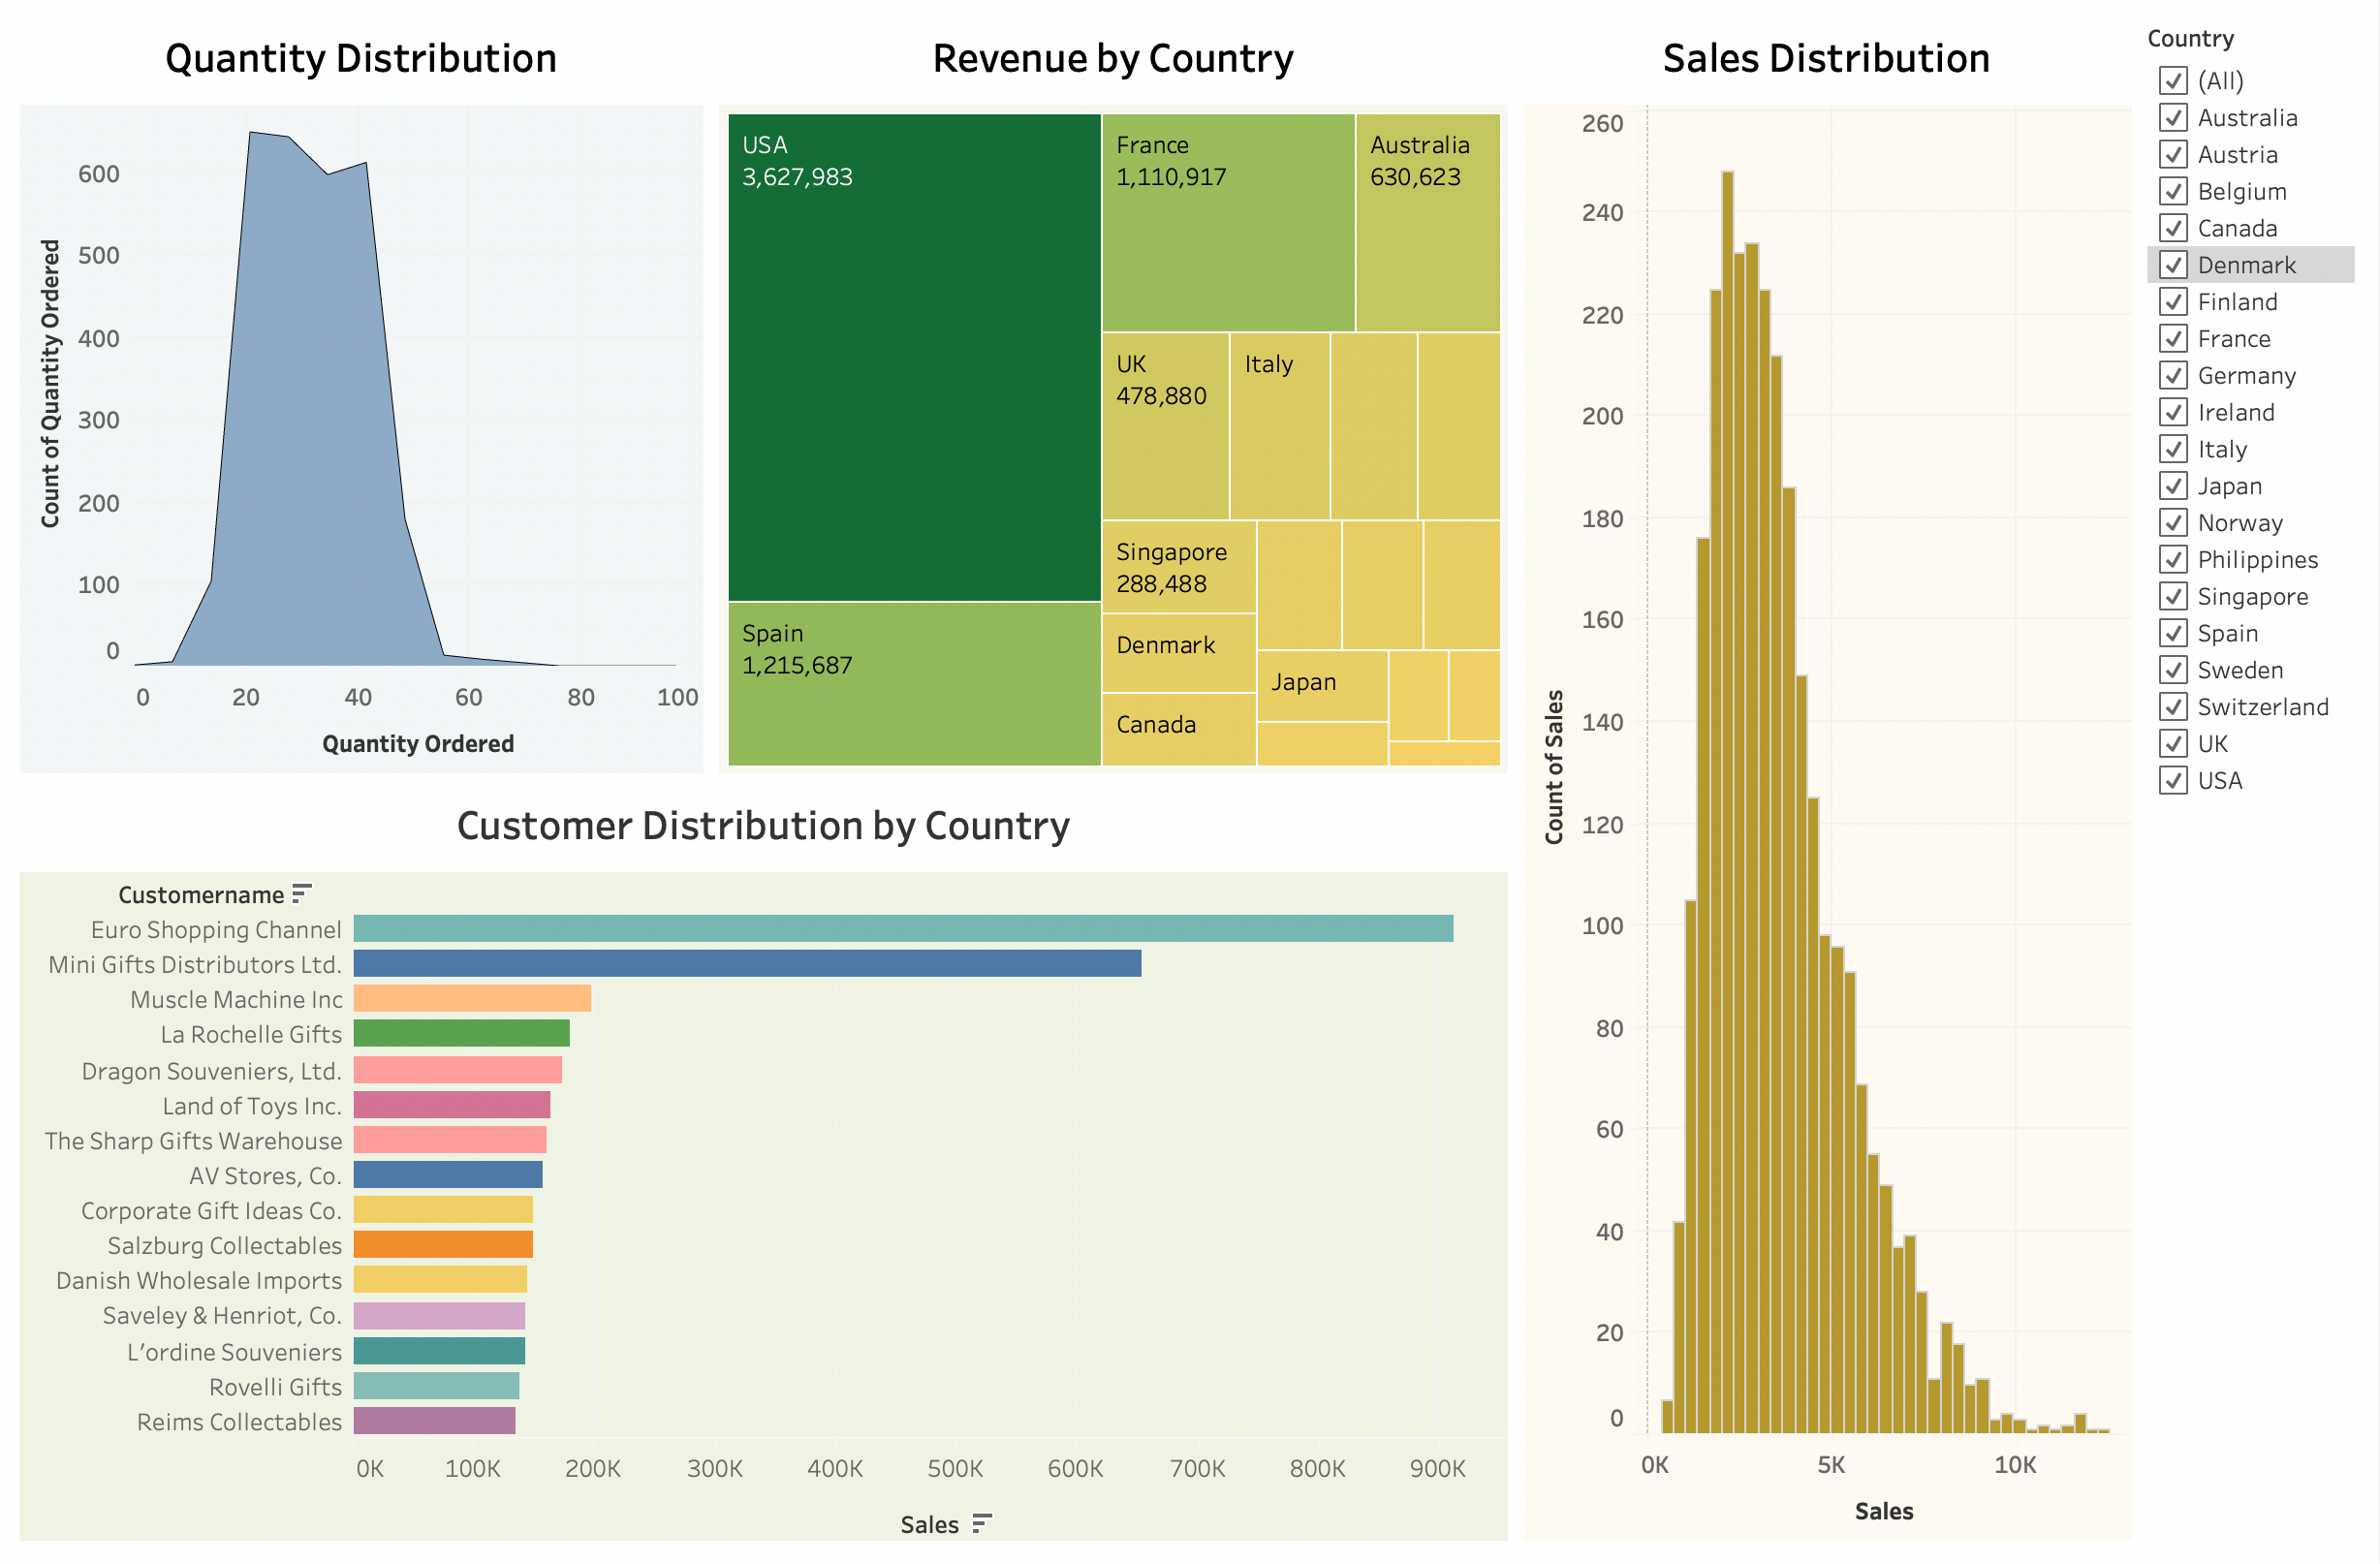

This screenshot's page, from the dashboard's own definition file:
{"tool":"tableau","page":{"name":"Sales Dash 1","canvas":[1000,1000],"units":"permille","ordinal":0},"visuals":[{"type":"worksheet","title":"Quantity Distribution","mark":"Area","rows":["QUANTITYORDERED"],"cols":["Quantityordered (bin)"],"box":[6.5,9.9,293.7,490.1]},{"type":"worksheet","title":"Revenue by Country","mark":"Automatic","box":[300.2,9.9,337.7,490.1]},{"type":"worksheet","title":"Sales Distribution","mark":"Automatic","rows":["SALES"],"cols":["Sales (bin)"],"box":[637.9,9.9,262,980.2]},{"type":"filter","title":"Customer Distribution by Country","param":"[federated.01b740l0io0xfi1eci774113f1tr].[none:COUNTRY:nk]","box":[899.9,9.9,93.6,509.9]},{"type":"worksheet","title":"Customer Distribution by Country","mark":"Automatic","rows":["CUSTOMERNAME"],"cols":["SALES"],"box":[6.5,500,631.4,490.1]}]}

Visuals, with their boxes on the dashboard's canvas, which has no fixed pixel size, in thousandths of its width and height (x1, y1, x2, y2). These are canvas units, not pixel positions in the 2380x1564 screenshot, which may show the page scaled, cropped or inside an application window:
"Quantity Distribution" worksheet (Area marks): x1=6, y1=10, x2=300, y2=500
"Revenue by Country" worksheet: x1=300, y1=10, x2=638, y2=500
"Sales Distribution" worksheet: x1=638, y1=10, x2=900, y2=990
"Customer Distribution by Country" filter: x1=900, y1=10, x2=994, y2=520
"Customer Distribution by Country" worksheet: x1=6, y1=500, x2=638, y2=990
